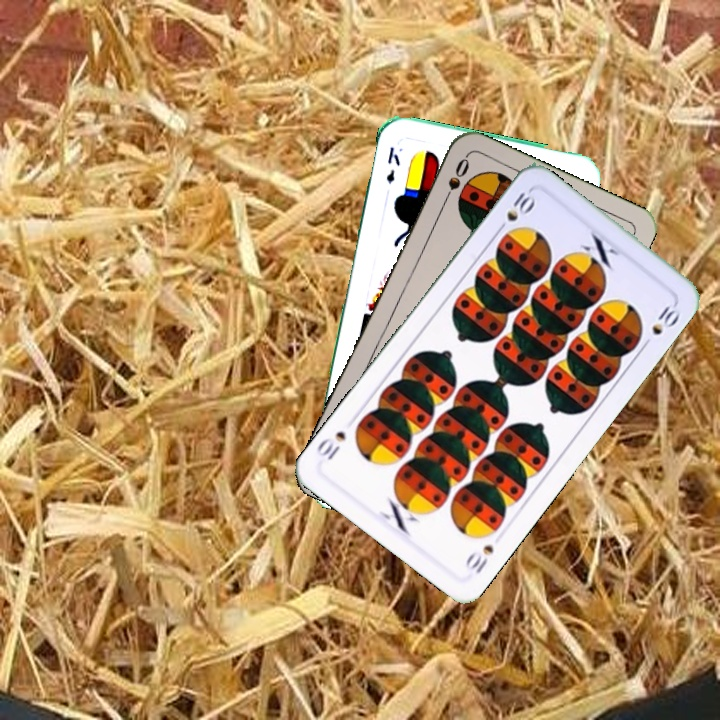EK: (382, 142, 403, 187)
S10: (492, 186, 538, 236), (461, 540, 497, 576)
SO: (438, 154, 472, 209)
